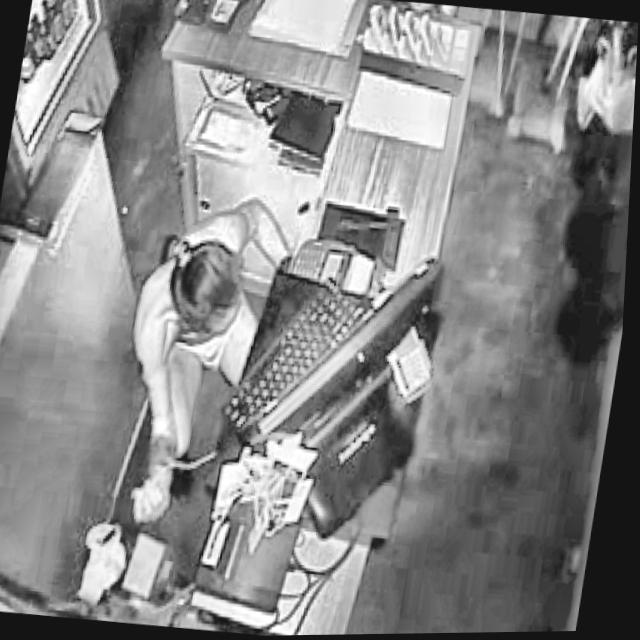burglary: (104, 185, 308, 547)
